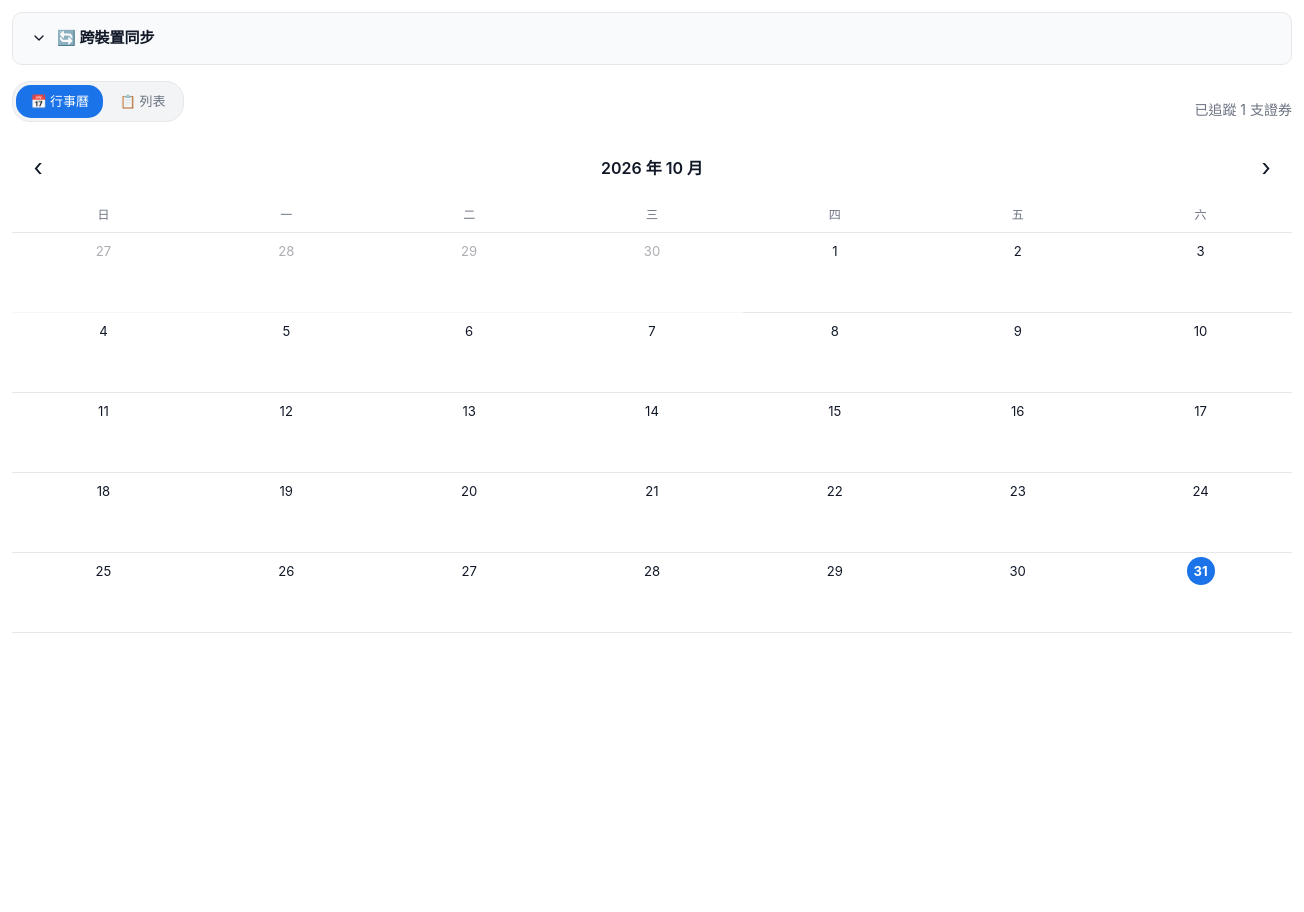
Test: components/WatchlistView（追蹤清單視圖）— 功能 001 無配息顯示 › 已下市股票在列表模式仍顯示於追蹤清單
The width and height of the screenshot is (1304, 912).
Note:  切換到列表模式
Click the tab "📋 列表" at [143, 101], box [106,84,180,118]
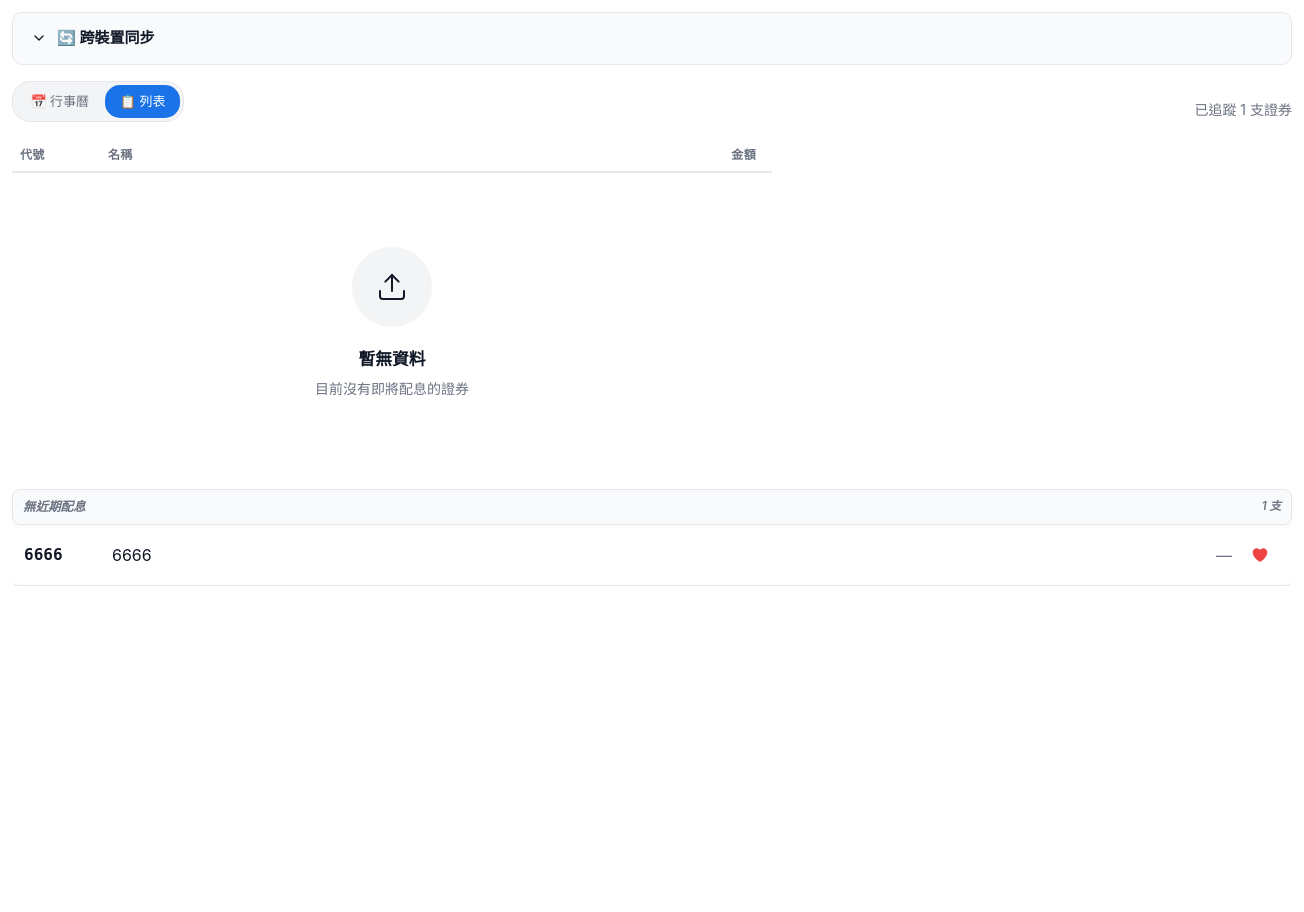
Result: the text "無近期配息" is shown at [23,498,85,516]
